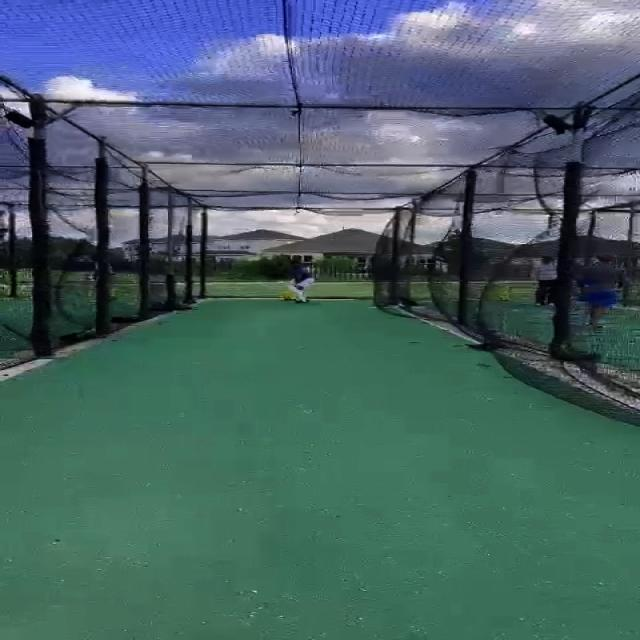batsman: (276, 259, 316, 304)
